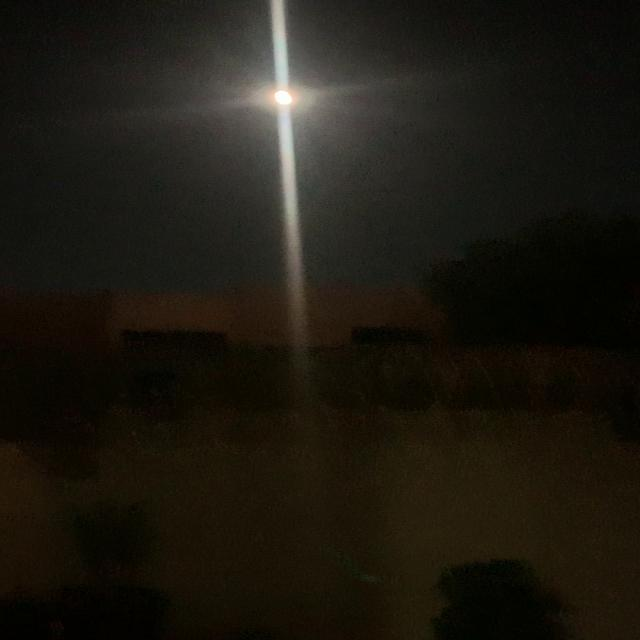moon: (248, 80, 310, 112)
